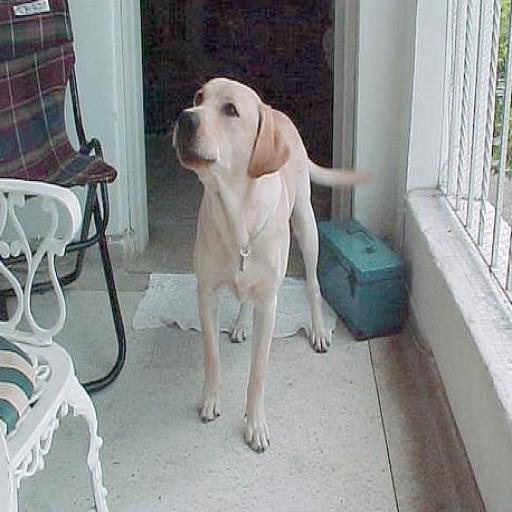dog_face: (175, 73, 276, 176)
